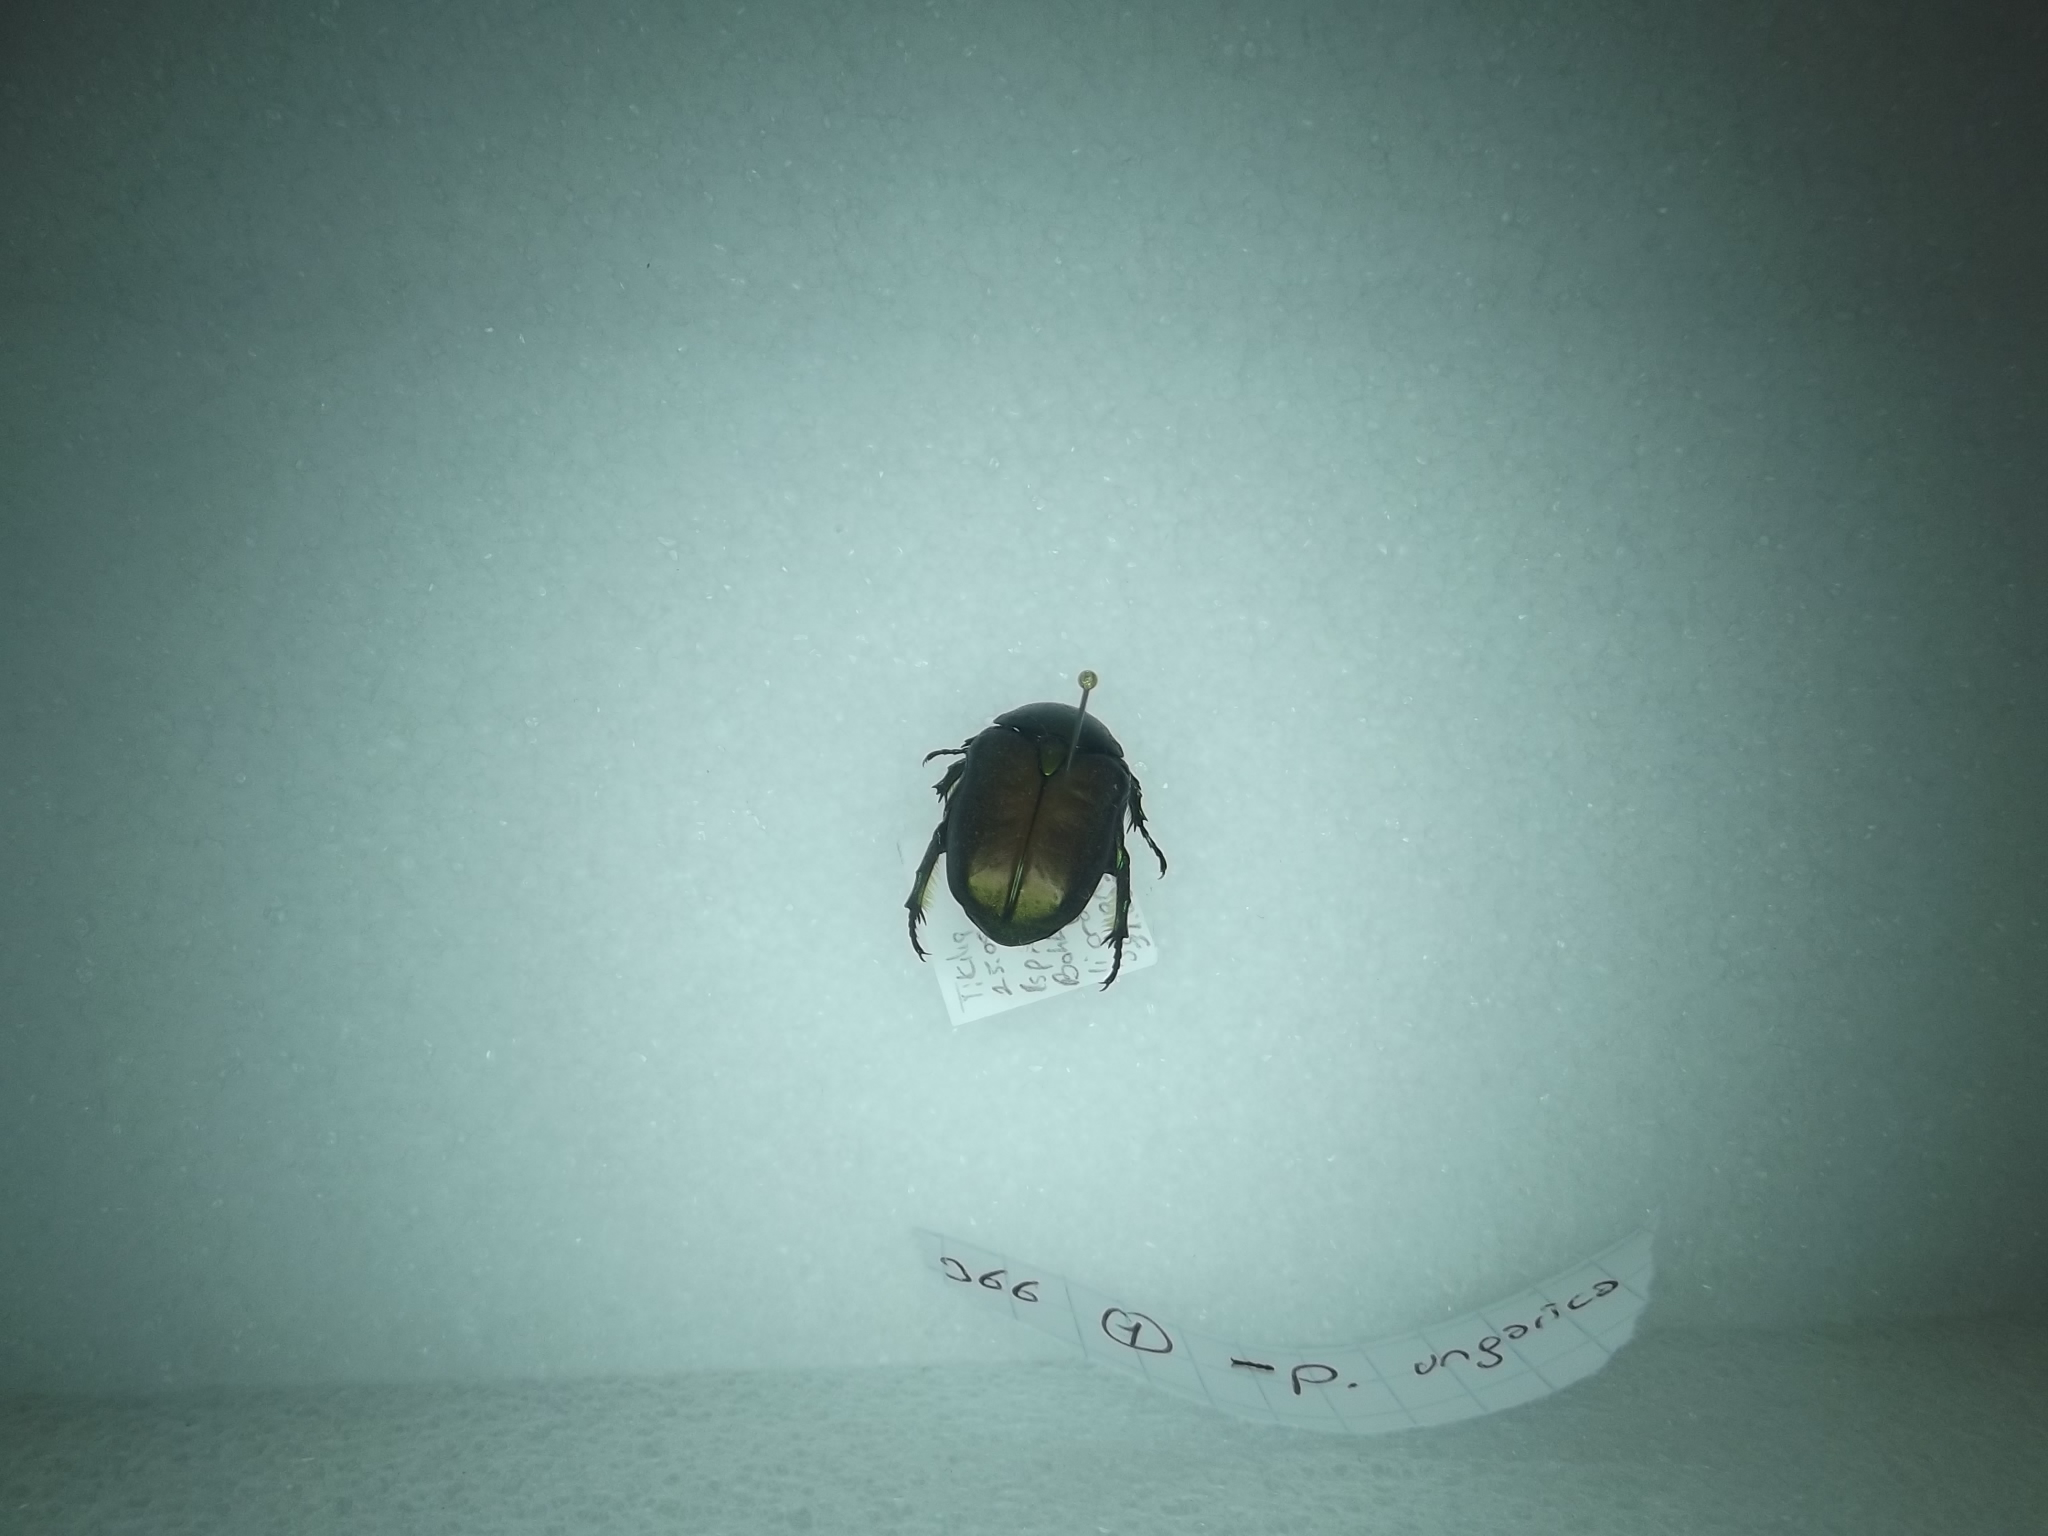Protaetia_ungarica_americana: (874, 678, 1211, 991)
